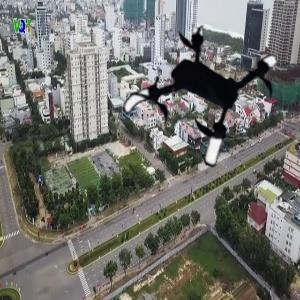drone: (121, 18, 286, 183)
